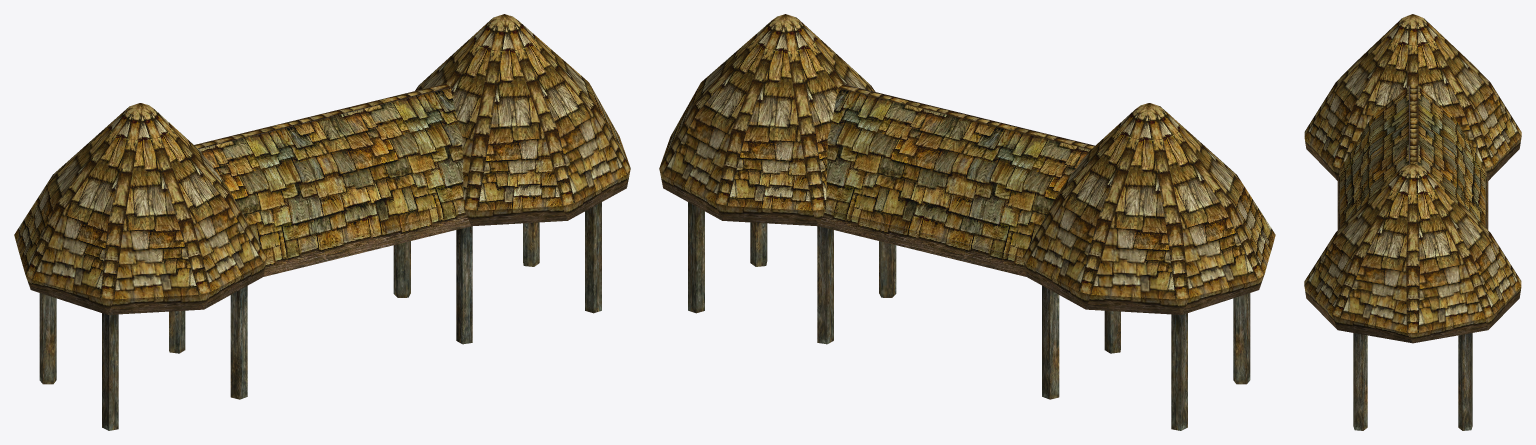
File: hrz18.glb
3 renders of one model, left to right at view 1: azimuth 30°, elevation 25°; view 2: azimuth 150°, elevation 25°; view 3: azimuth 270°, elevation 25°, orthographic. The views are drawn at different scales.
Parts seen in each view (by area): view 1: hrz18-col; view 2: hrz18-col; view 3: hrz18-col.
Boxes of the visible parts, x1=… form: hrz18-col: x1=14, y1=14, x2=630, y2=430; hrz18-col: x1=659, y1=14, x2=1275, y2=430; hrz18-col: x1=1304, y1=14, x2=1521, y2=430.
Size of the model in its own units: 18.53 by 8.65 by 7.05.
6 materials, 6 textured.
